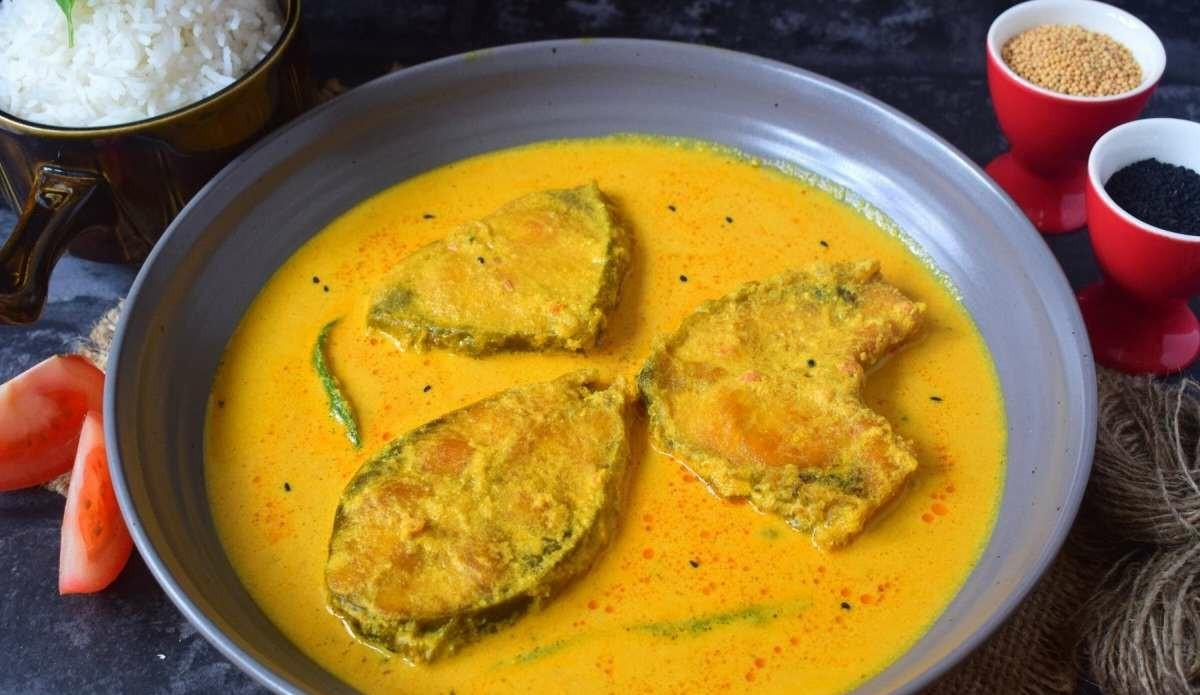FishCurry: (200, 146, 1008, 695)
